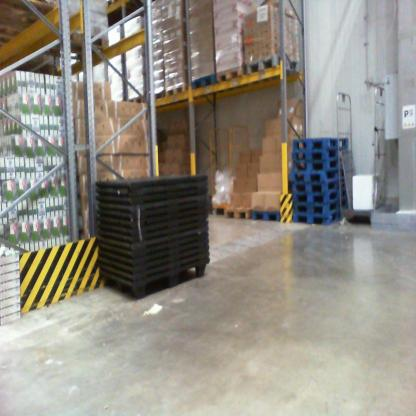pallet: (32, 23, 112, 59), (244, 52, 300, 85), (291, 157, 344, 176), (291, 174, 348, 191), (292, 211, 347, 227), (215, 64, 251, 88), (291, 167, 347, 182), (290, 191, 349, 205), (293, 199, 351, 213), (289, 137, 349, 149), (190, 74, 224, 95), (290, 148, 344, 160), (163, 82, 201, 98), (251, 207, 286, 223), (223, 204, 251, 224)
